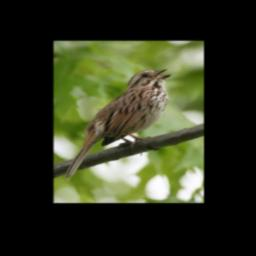Sparrow: (65, 67, 174, 180)
